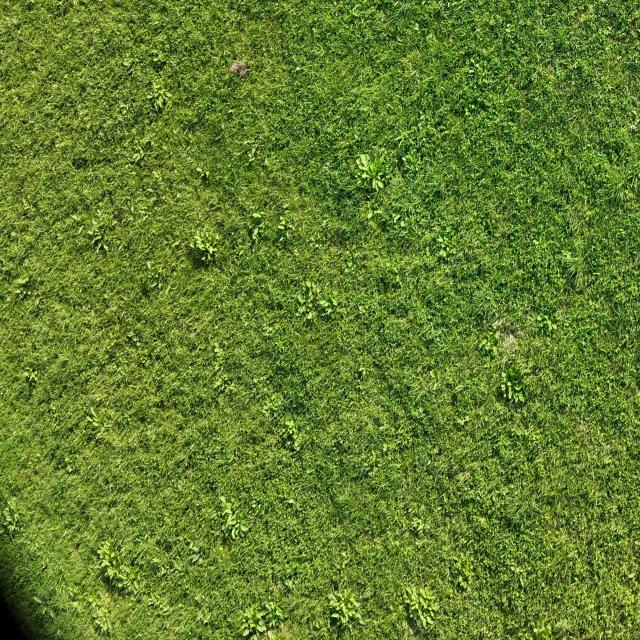rumex: (403, 341, 509, 512), (70, 372, 173, 493), (446, 418, 536, 545), (553, 311, 638, 445), (374, 230, 454, 358), (226, 468, 316, 581), (456, 45, 502, 109), (118, 317, 160, 367), (400, 147, 431, 203), (270, 206, 306, 251), (446, 550, 478, 600), (426, 221, 459, 264), (382, 420, 417, 460), (84, 405, 114, 446), (275, 411, 305, 452), (496, 363, 526, 404), (117, 80, 143, 124), (238, 601, 268, 638), (362, 441, 392, 476), (141, 255, 168, 292), (473, 328, 501, 362), (299, 280, 327, 313), (300, 223, 326, 258), (520, 616, 559, 639), (261, 596, 287, 630), (612, 172, 637, 206), (501, 14, 525, 49), (1, 498, 22, 536), (220, 502, 245, 533), (128, 136, 152, 168), (259, 392, 285, 420), (92, 606, 115, 637), (535, 310, 559, 337), (558, 249, 580, 277), (248, 211, 266, 243), (134, 274, 154, 302), (98, 541, 119, 567), (244, 141, 265, 166), (212, 367, 232, 393), (188, 541, 207, 566), (416, 587, 434, 609), (21, 367, 39, 388), (408, 406, 427, 425), (455, 408, 474, 427), (193, 161, 211, 181), (90, 230, 107, 251), (72, 153, 92, 170), (151, 51, 167, 71), (53, 134, 70, 152), (284, 418, 298, 436), (354, 365, 367, 384), (412, 518, 427, 534), (15, 272, 30, 288), (295, 292, 308, 310), (386, 260, 399, 276), (121, 56, 134, 72), (418, 612, 431, 628), (204, 242, 216, 258), (194, 247, 208, 260), (328, 293, 340, 308), (261, 326, 276, 338), (106, 566, 118, 580), (212, 339, 223, 354), (411, 604, 422, 619), (251, 211, 263, 224), (223, 522, 234, 536), (89, 406, 99, 421), (276, 222, 288, 234), (429, 601, 440, 614), (436, 235, 448, 246), (150, 16, 162, 27), (218, 495, 230, 506), (155, 97, 165, 110), (32, 595, 44, 605), (506, 381, 513, 398), (345, 258, 354, 271), (365, 208, 374, 221), (132, 578, 140, 592), (374, 207, 384, 218), (190, 544, 201, 554), (158, 566, 168, 577), (500, 383, 508, 396), (392, 213, 402, 223), (306, 310, 314, 322), (126, 330, 135, 340), (118, 103, 128, 112), (70, 213, 80, 222), (171, 240, 181, 249), (305, 279, 313, 290), (532, 625, 540, 636), (34, 299, 40, 313), (48, 608, 55, 620), (501, 369, 507, 383), (146, 260, 153, 271), (399, 218, 406, 229), (147, 91, 156, 99), (226, 110, 234, 119), (66, 464, 73, 474), (287, 497, 295, 505), (536, 314, 544, 322), (184, 128, 190, 137), (108, 484, 114, 493), (295, 66, 303, 72), (470, 103, 476, 110), (635, 124, 640, 132)
